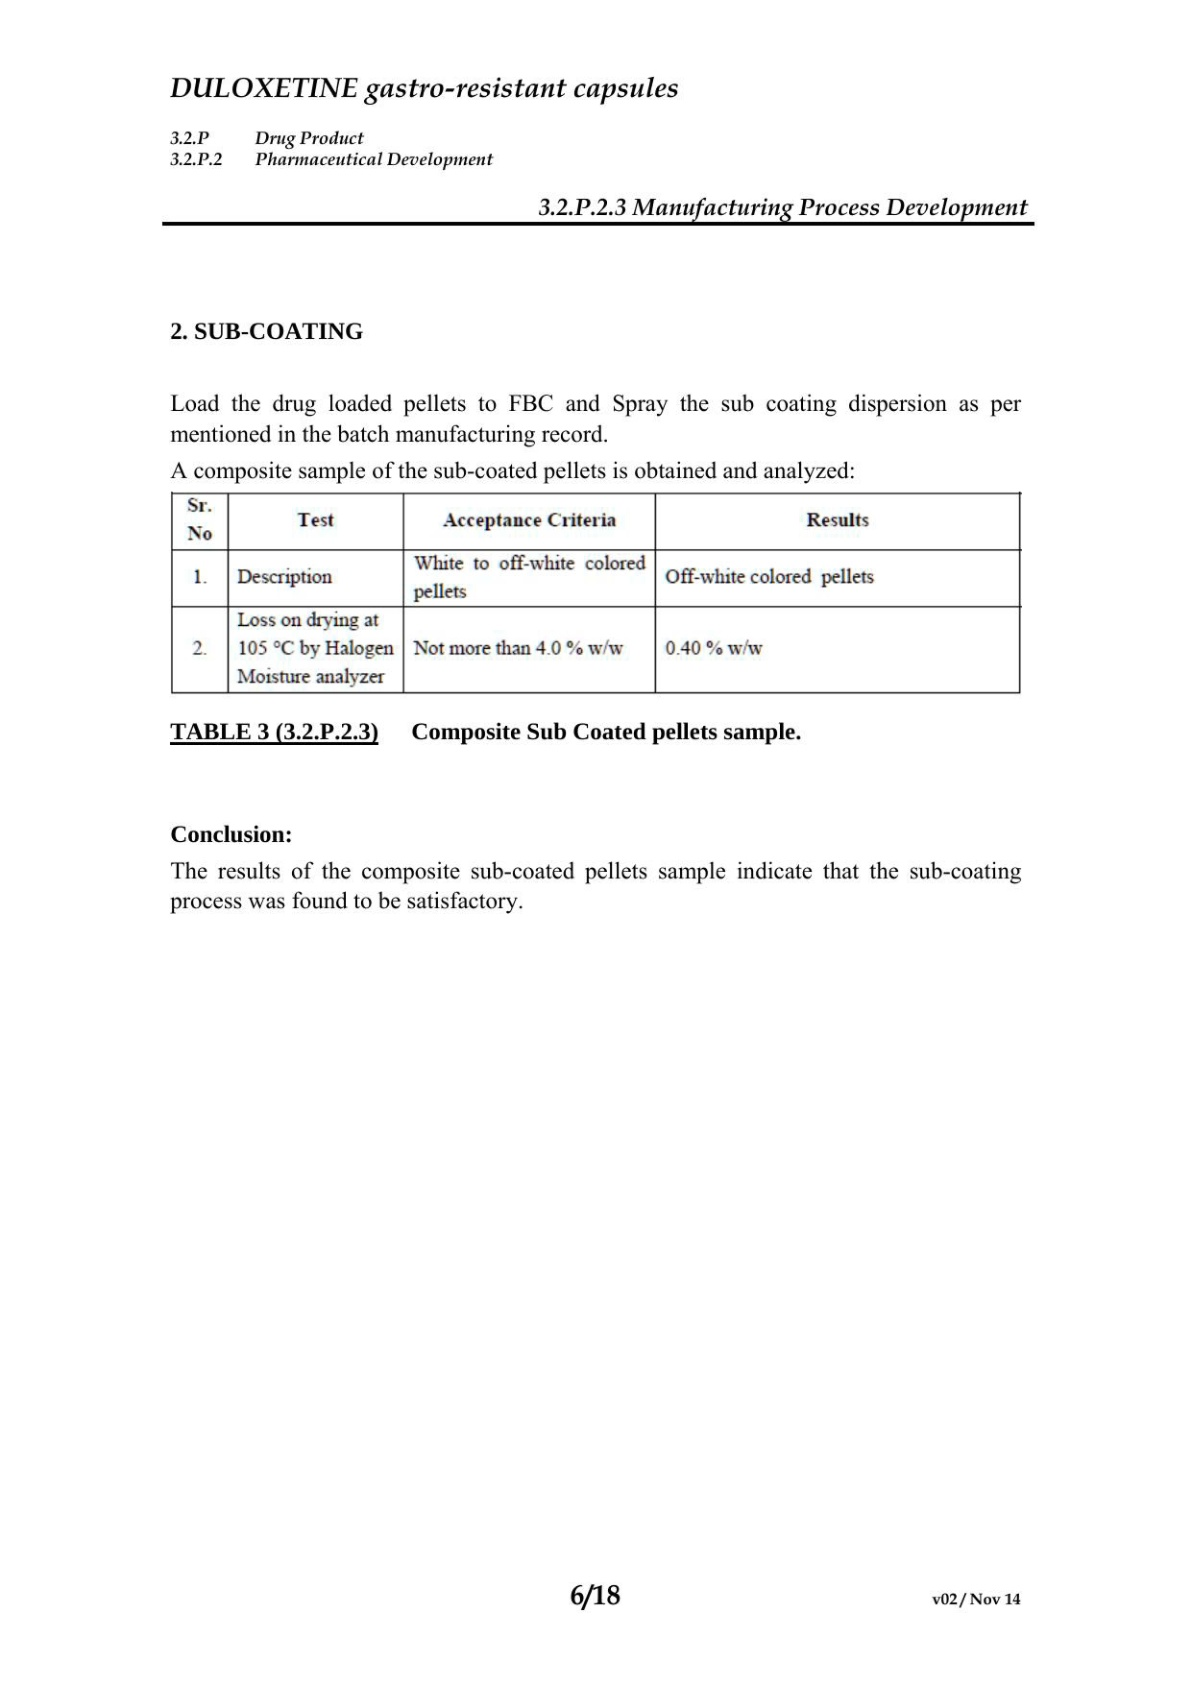full_lined: (159, 483, 1037, 707)
